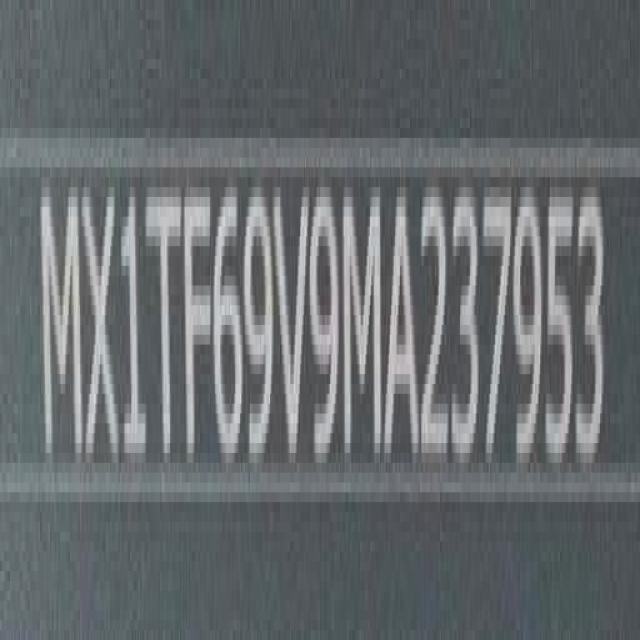1: (120, 168, 147, 459)
2: (421, 177, 448, 473)
3: (576, 190, 606, 481), (452, 174, 479, 472)
5: (546, 177, 576, 470)
6: (213, 164, 246, 467)
7: (482, 178, 510, 478)
9: (308, 168, 342, 485), (245, 175, 277, 470), (515, 178, 545, 470)
A: (388, 173, 422, 470)
F: (182, 182, 215, 467)
M: (39, 172, 85, 474), (345, 168, 384, 472)
T: (143, 160, 184, 470)
V: (273, 164, 309, 470)
X: (85, 174, 122, 478)
